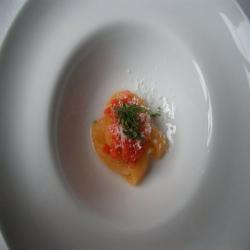icecream: (83, 85, 178, 190)
